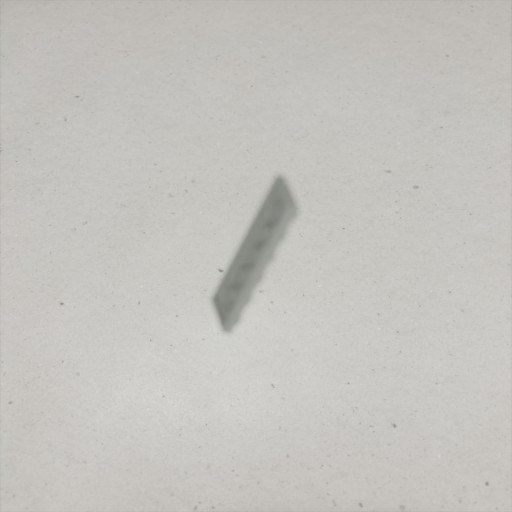lego: (210, 173, 300, 335)
